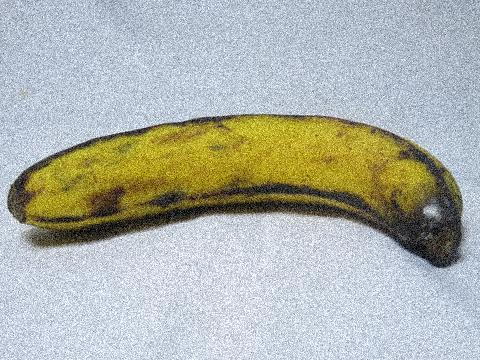overripe: (5, 105, 479, 276)
rotten: (353, 157, 473, 278)
